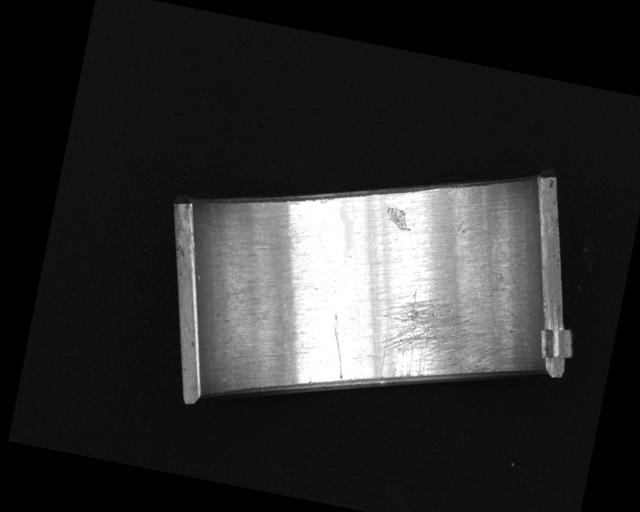bruise: (383, 206, 414, 231)
nick: (193, 202, 257, 302), (320, 313, 355, 380)
scratch: (369, 284, 505, 403)
